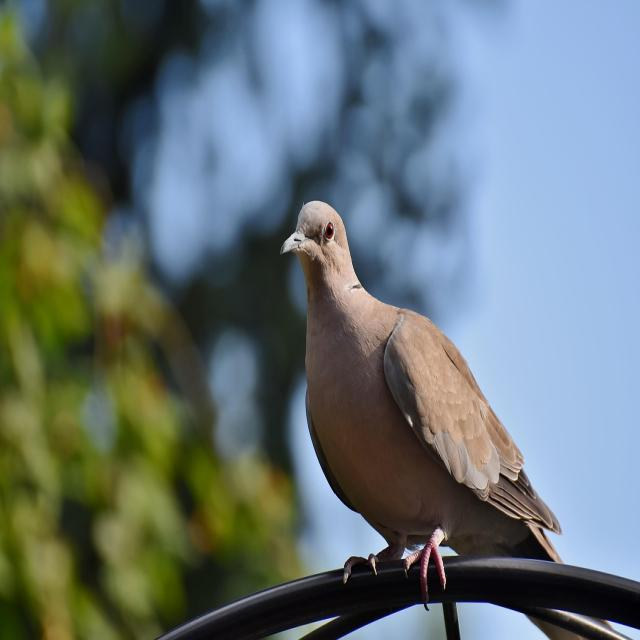pegion: (242, 165, 568, 523)
